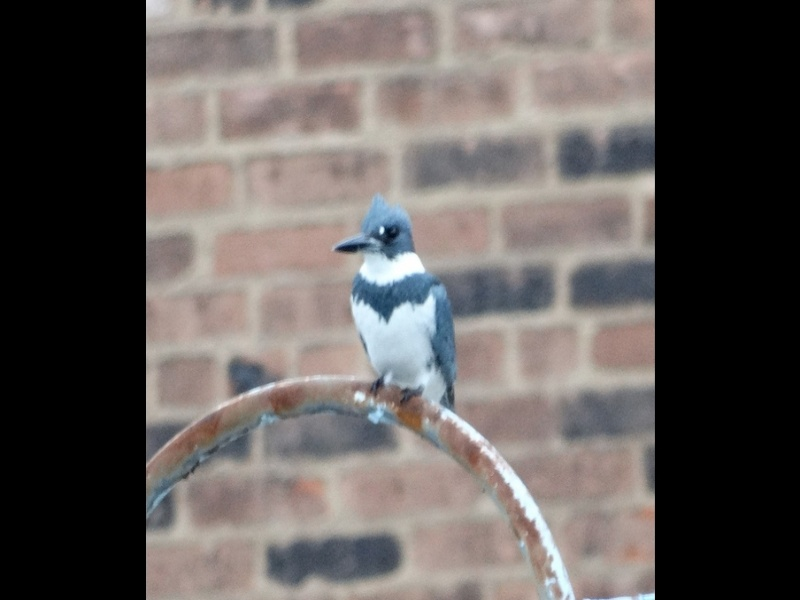kingfisher: (331, 197, 460, 413)
